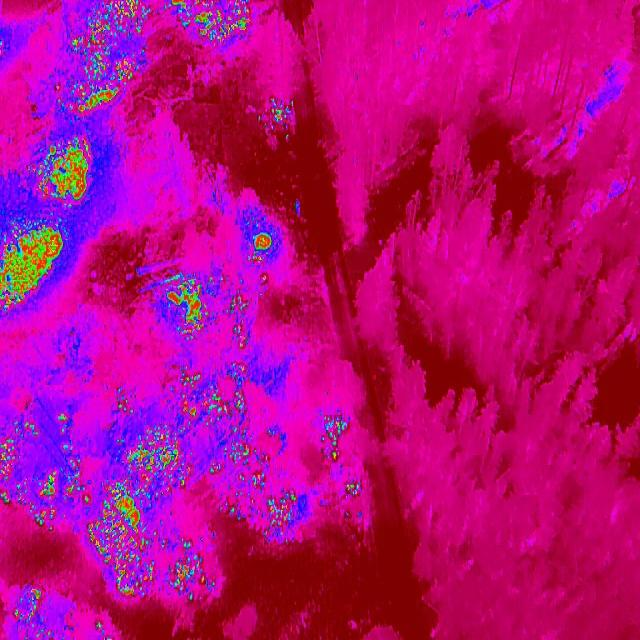fire: (0, 412, 89, 530), (86, 490, 162, 608), (0, 217, 63, 315), (69, 38, 137, 114), (208, 440, 270, 520), (119, 422, 193, 488), (168, 365, 246, 427), (28, 136, 96, 204), (167, 0, 257, 50), (224, 269, 268, 352), (166, 540, 217, 608), (168, 277, 215, 344), (80, 0, 150, 42), (260, 487, 302, 544), (13, 582, 53, 640), (238, 228, 282, 268), (318, 411, 350, 462), (264, 99, 297, 138), (109, 384, 141, 418), (345, 478, 365, 499), (94, 620, 112, 640)
